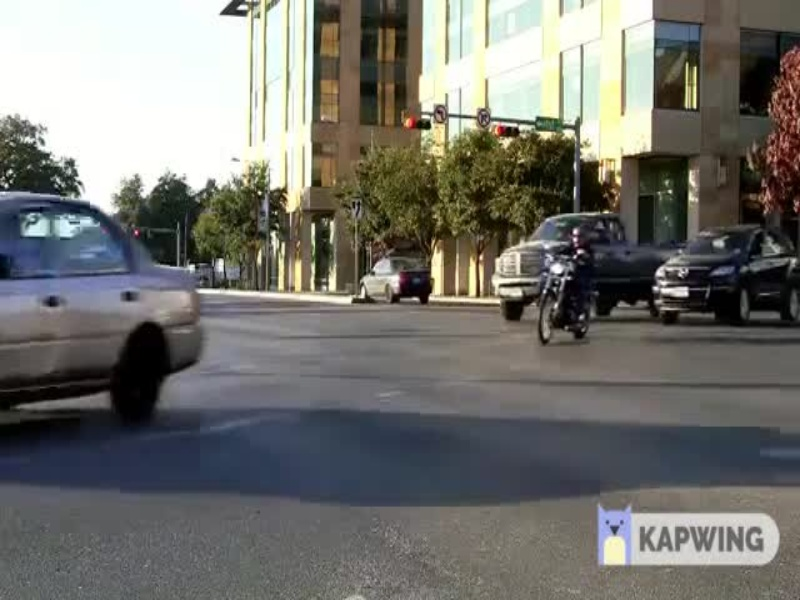car: (1, 177, 224, 436), (351, 259, 444, 314)
motorcycle: (528, 231, 603, 354)
suv: (646, 222, 796, 327)
